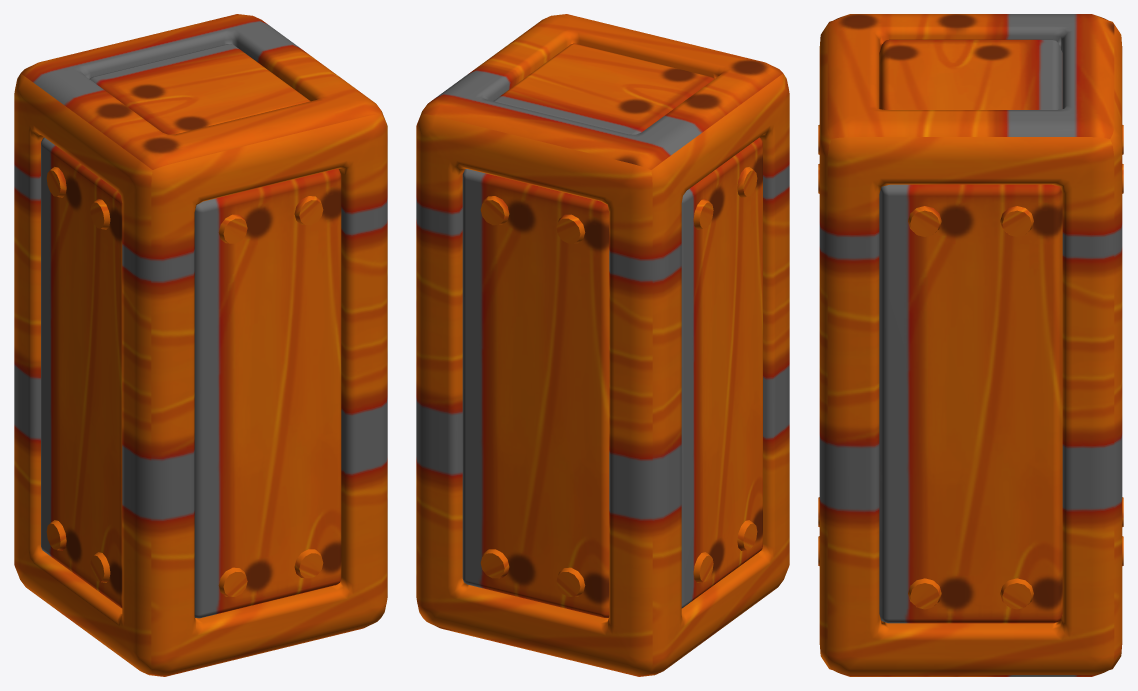
The picture shows the model from 3 angles, left to right: view 1: azimuth 30°, elevation 25°; view 2: azimuth 150°, elevation 25°; view 3: azimuth 270°, elevation 25°; orthographic projection. The views are drawn at different scales.
Visible parts, largest first — view 1: 4063; view 2: 4063; view 3: 4063.
Boxes of the visible parts, box(x1,y1,x2,y2) form: 4063: box(14, 14, 387, 676); 4063: box(416, 14, 789, 676); 4063: box(818, 14, 1123, 676).
Size of the model in its own units: 1 by 2 by 1.
Materials: 1 (1 with a texture image).
